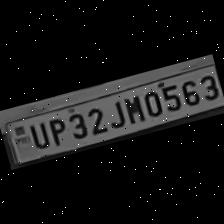0: (139, 86, 166, 119)
2: (82, 103, 110, 136)
3: (195, 70, 222, 103), (63, 107, 89, 141)
5: (157, 80, 183, 114)
6: (176, 76, 202, 108)
J: (103, 98, 127, 131)
M: (120, 92, 146, 126)
P: (43, 114, 69, 148)
U: (24, 118, 51, 152)
